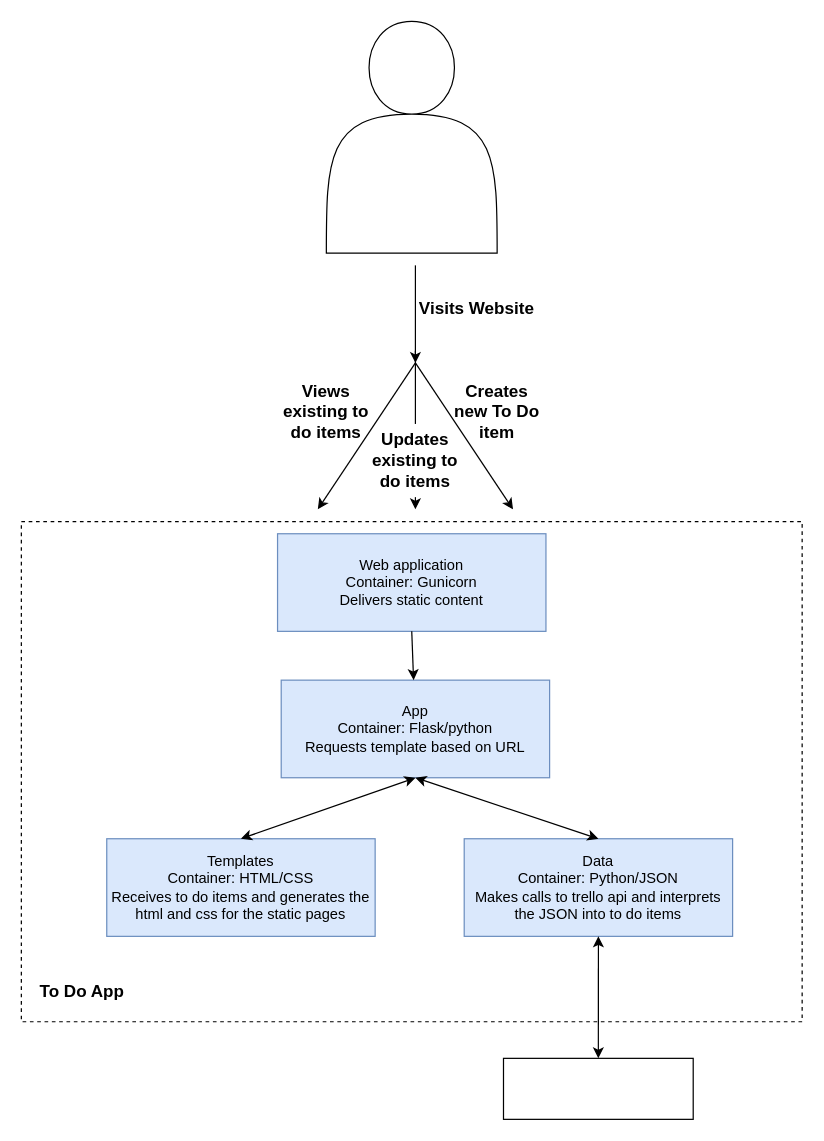
Image size: 824x1141. Some labels were removed from this diagram. Each missing label, with the centre of its shape:
"Trello" belongs at (x=597, y=1088).
"User" belongs at (x=411, y=136).
